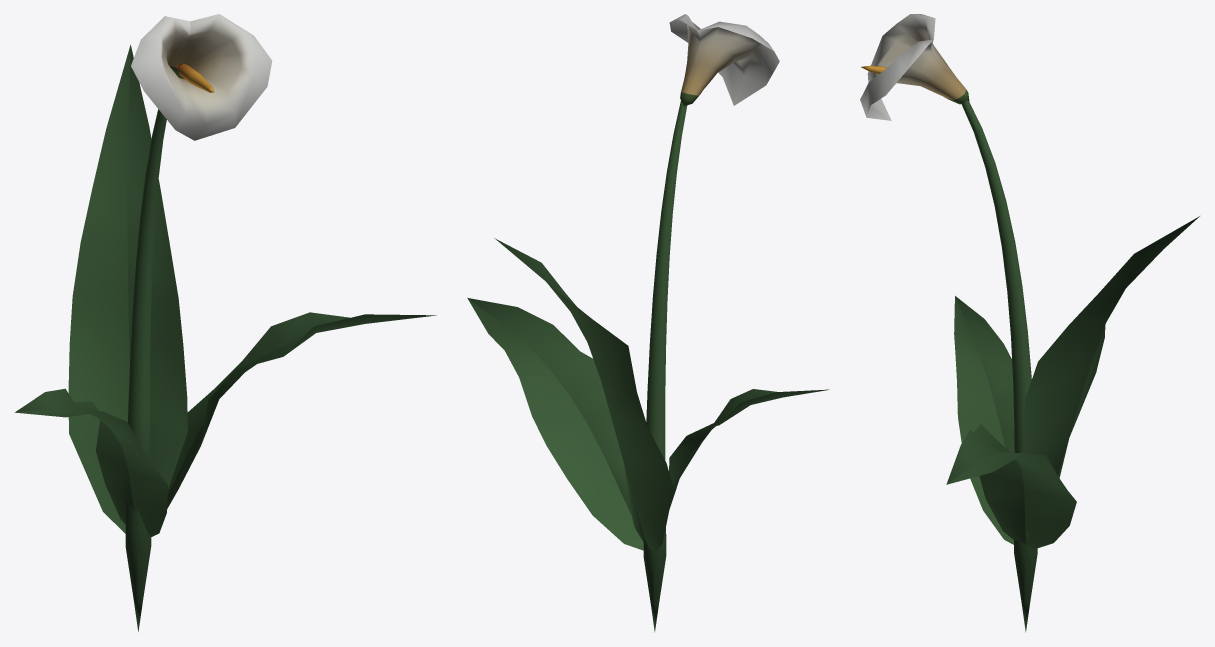
Rendered from plants-flowers-calla-lily_v1.glb.
3 renders of one model, left to right at view 1: azimuth 30°, elevation 25°; view 2: azimuth 150°, elevation 25°; view 3: azimuth 270°, elevation 25°, orthographic. The views are drawn at different scales.
Parts seen in each view (by area): view 1: Calla Lily_v1; view 2: Calla Lily_v1; view 3: Calla Lily_v1.
Part boxes in pixels (x1,y1,x2,y2): Calla Lily_v1: (15,14,436,631); Calla Lily_v1: (467,14,829,632); Calla Lily_v1: (860,14,1199,632).
Bounding box in the file's own units: 0.3993 × 0.6 × 0.3062.
